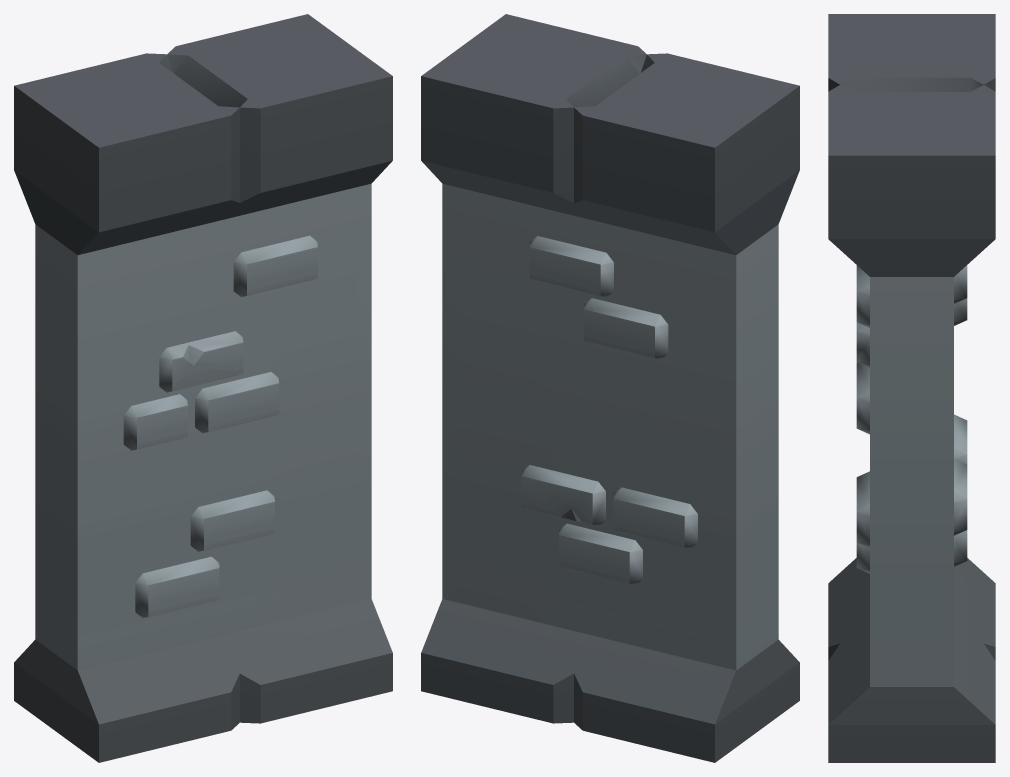
File: wall_half.glb
The picture shows the model from 3 angles, left to right: view 1: azimuth 30°, elevation 25°; view 2: azimuth 150°, elevation 25°; view 3: azimuth 270°, elevation 25°; orthographic projection.
Parts seen in each view (by area): view 1: wall_half; view 2: wall_half; view 3: wall_half.
Boxes of the visible parts, x1,y1,x2,y2 form: wall_half: (14,14,392,762); wall_half: (421,14,799,762); wall_half: (828,14,995,762).
Bounding box in the file's own units: 2 × 4 × 1.
Materials: 1 (1 with a texture image).
